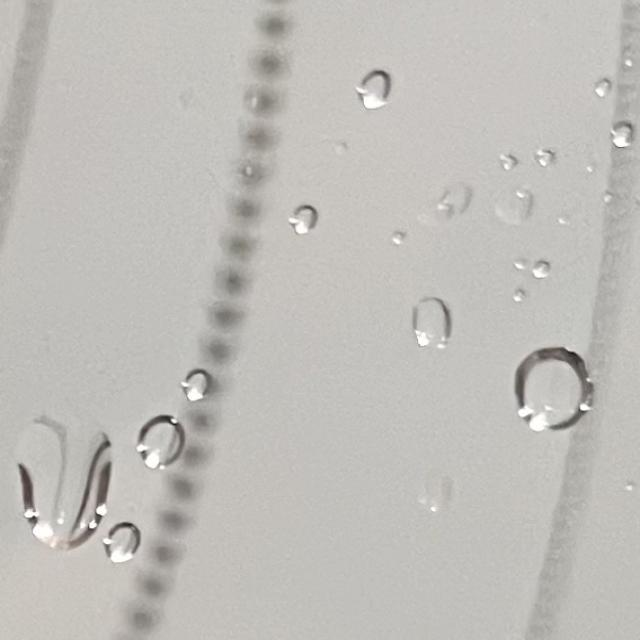raindrop: (9, 408, 110, 550), (504, 345, 614, 439), (394, 278, 464, 357), (123, 418, 200, 473), (98, 511, 154, 576), (352, 61, 422, 108), (178, 354, 222, 410), (428, 180, 480, 222), (286, 200, 340, 239), (498, 192, 544, 225), (586, 66, 625, 100), (512, 252, 560, 278), (604, 116, 638, 152), (527, 150, 571, 174), (502, 278, 538, 304), (496, 141, 527, 167)
